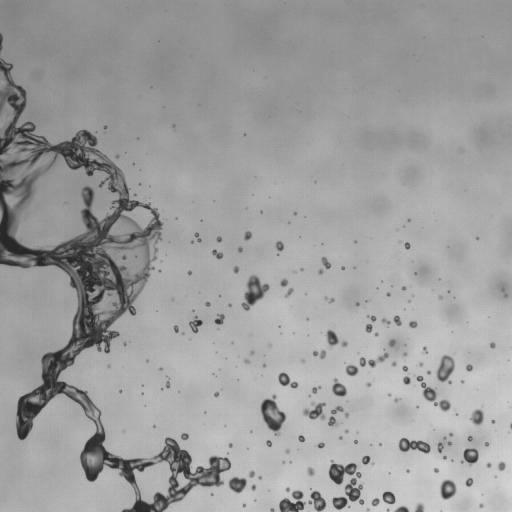droplet: (328, 460, 364, 509), (260, 394, 286, 435), (241, 274, 269, 310), (436, 354, 454, 383), (302, 402, 325, 419), (326, 329, 347, 347), (440, 479, 456, 499), (461, 448, 478, 465), (228, 477, 246, 493), (332, 378, 346, 396), (470, 409, 483, 425), (189, 317, 202, 332), (382, 491, 395, 504), (345, 364, 358, 376), (321, 257, 330, 269), (212, 249, 222, 259), (214, 314, 224, 324), (313, 350, 325, 358), (393, 315, 401, 325), (362, 456, 372, 464), (276, 241, 283, 252), (244, 231, 252, 240), (414, 503, 423, 511), (365, 324, 373, 332), (465, 478, 473, 486), (371, 498, 379, 506), (280, 278, 287, 287), (367, 315, 376, 322), (403, 375, 410, 384), (312, 386, 321, 393), (307, 467, 314, 476), (437, 442, 443, 452), (382, 318, 390, 325), (388, 339, 395, 347), (465, 364, 473, 371), (498, 462, 505, 470), (181, 433, 188, 440), (298, 435, 305, 442), (409, 321, 417, 327), (317, 442, 324, 448), (422, 346, 427, 354), (405, 242, 410, 249), (233, 266, 238, 273), (173, 325, 178, 332), (249, 470, 254, 477), (216, 236, 221, 242), (490, 342, 495, 348), (402, 365, 407, 371), (266, 440, 271, 446), (318, 269, 323, 274), (391, 361, 396, 366), (467, 436, 472, 441), (238, 247, 242, 252), (205, 302, 210, 306), (374, 332, 378, 337), (244, 359, 249, 363), (426, 370, 431, 374), (214, 392, 218, 397), (344, 412, 348, 417), (486, 463, 491, 467), (251, 485, 255, 490), (285, 487, 290, 491), (479, 503, 483, 508), (115, 154, 119, 158), (402, 286, 406, 290), (386, 292, 390, 296), (250, 350, 254, 354), (419, 362, 423, 366), (366, 382, 370, 386), (447, 441, 451, 445), (228, 443, 232, 447), (484, 442, 488, 446), (285, 449, 289, 453), (434, 468, 438, 472), (394, 398, 399, 401), (438, 295, 441, 299), (356, 302, 359, 306), (344, 429, 348, 432), (443, 456, 447, 459), (270, 508, 274, 511), (341, 266, 344, 269), (188, 271, 191, 274), (504, 293, 507, 296), (123, 342, 126, 345), (449, 433, 452, 436), (354, 440, 357, 443), (406, 469, 409, 472), (242, 503, 245, 506), (294, 212, 296, 215), (407, 219, 410, 221), (191, 240, 193, 243), (228, 304, 231, 306), (404, 352, 406, 355), (302, 359, 304, 362), (263, 364, 265, 367), (388, 393, 390, 396), (492, 420, 494, 423), (339, 436, 341, 439), (259, 476, 261, 479), (366, 509, 369, 511), (386, 509, 389, 511), (104, 126, 106, 128), (134, 194, 136, 196), (159, 368, 161, 370), (461, 381, 463, 383), (119, 390, 121, 392), (379, 443, 381, 445)
ligament: (0, 58, 230, 511), (415, 376, 450, 411), (279, 490, 326, 511), (398, 438, 430, 453), (359, 352, 388, 367), (278, 372, 298, 388), (328, 406, 343, 427), (394, 506, 409, 511), (285, 288, 293, 297), (195, 233, 201, 242), (165, 378, 170, 388), (325, 297, 334, 302), (0, 33, 2, 51), (510, 423, 511, 428)
